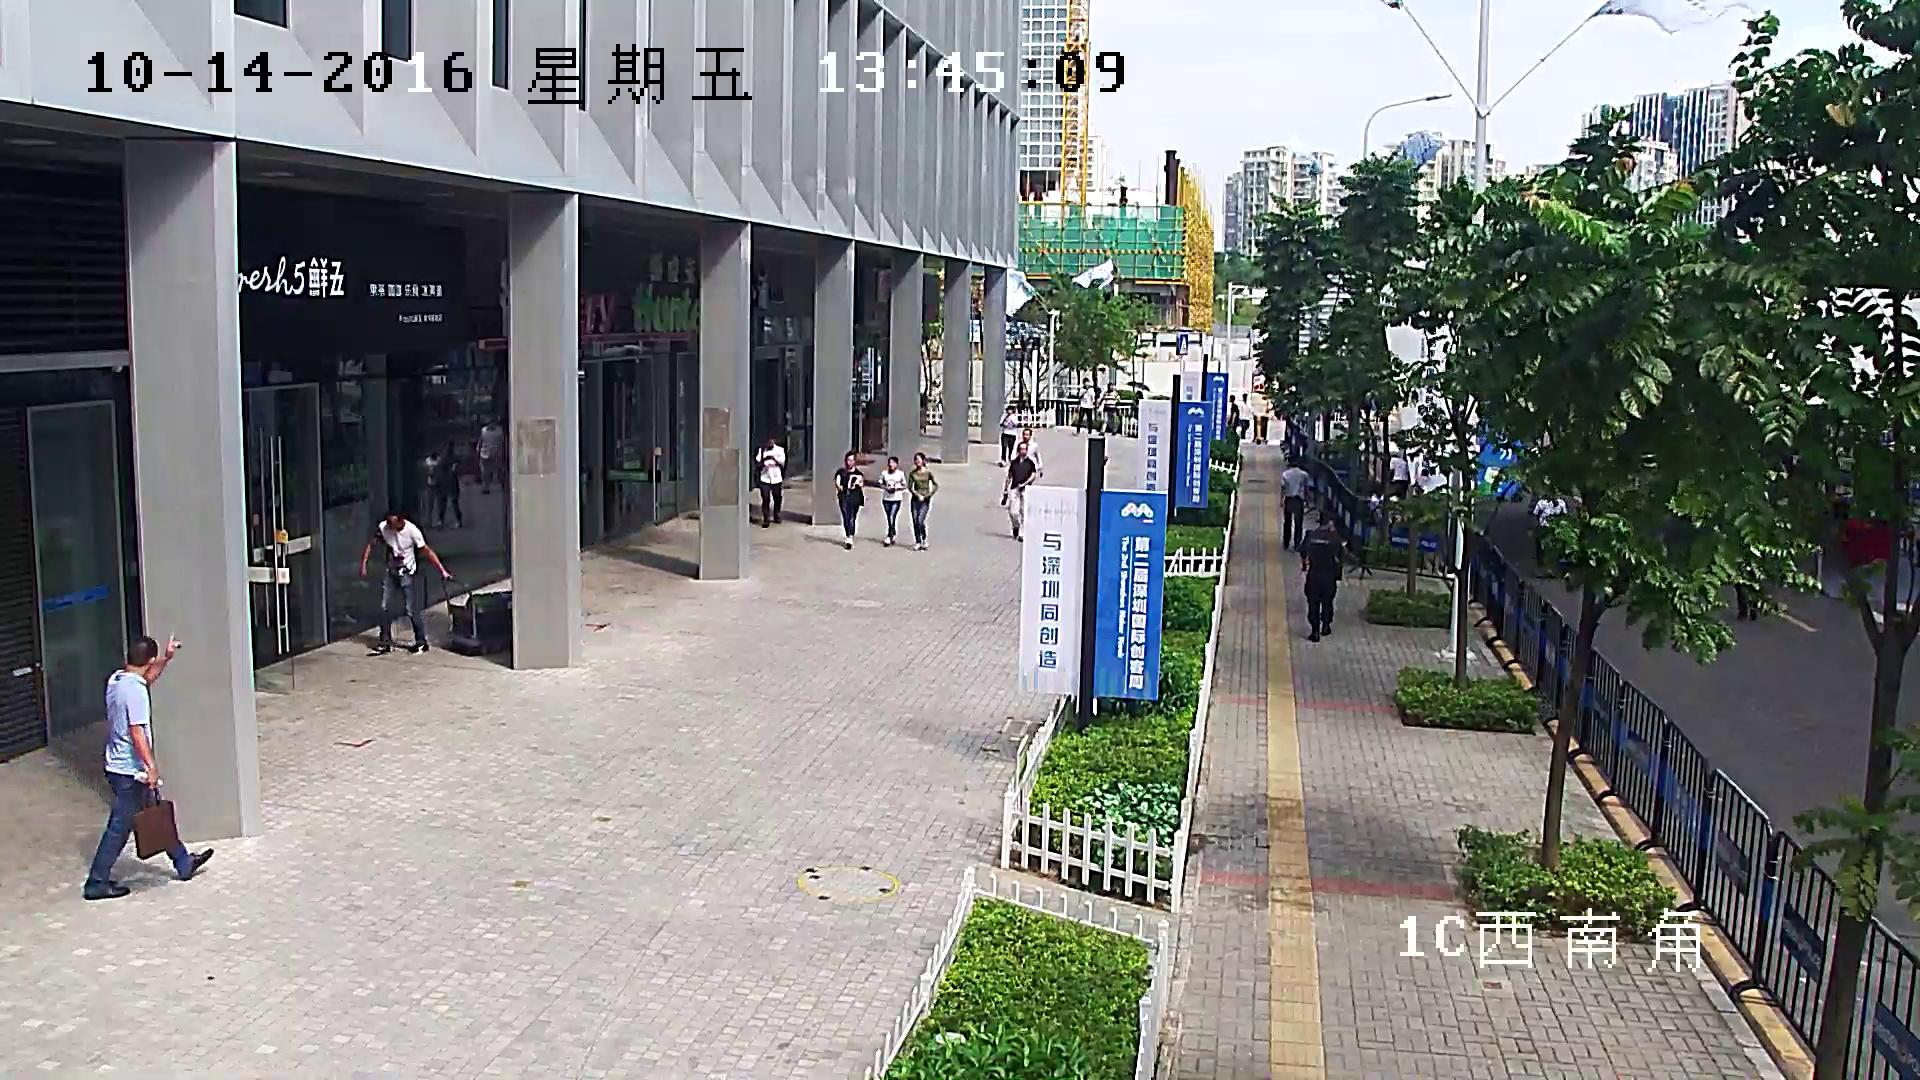person: (82, 633, 211, 900), (359, 507, 512, 654), (360, 508, 454, 653), (1300, 516, 1344, 642), (1001, 443, 1034, 540), (835, 452, 864, 549), (909, 452, 938, 549), (1279, 454, 1308, 550), (755, 434, 784, 528), (436, 442, 464, 528), (878, 456, 905, 546), (477, 410, 503, 496), (1532, 493, 1560, 563), (422, 444, 441, 527), (1016, 428, 1043, 478), (1073, 377, 1094, 435), (1250, 383, 1270, 443), (1098, 382, 1120, 435), (999, 404, 1017, 466), (1391, 452, 1407, 498), (1227, 395, 1238, 431), (1239, 393, 1249, 438)
